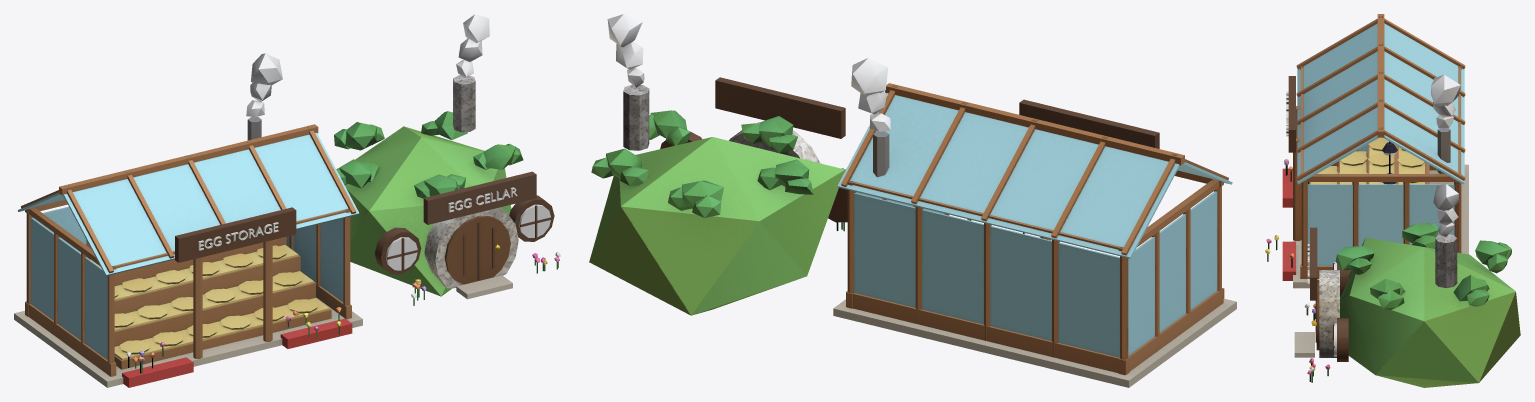
The model's file is home_cellar_2.fbx.
3 renders of one model, left to right at view 1: azimuth 30°, elevation 25°; view 2: azimuth 150°, elevation 25°; view 3: azimuth 270°, elevation 25°, orthographic. The views are drawn at different scales.
Visible parts, largest first — view 1: home_cellar_2_body, home_cellar_2_body_glow; view 2: home_cellar_2_body; view 3: home_cellar_2_body.
Part boxes in pixels (x1,y1,x2,y2): home_cellar_2_body: (14, 14, 560, 387); home_cellar_2_body_glow: (385, 204, 550, 270); home_cellar_2_body: (589, 14, 1236, 387); home_cellar_2_body: (1265, 14, 1520, 387).
Size of the model in its own units: 3495 by 1853 by 1741.
2 materials, 1 textured.
